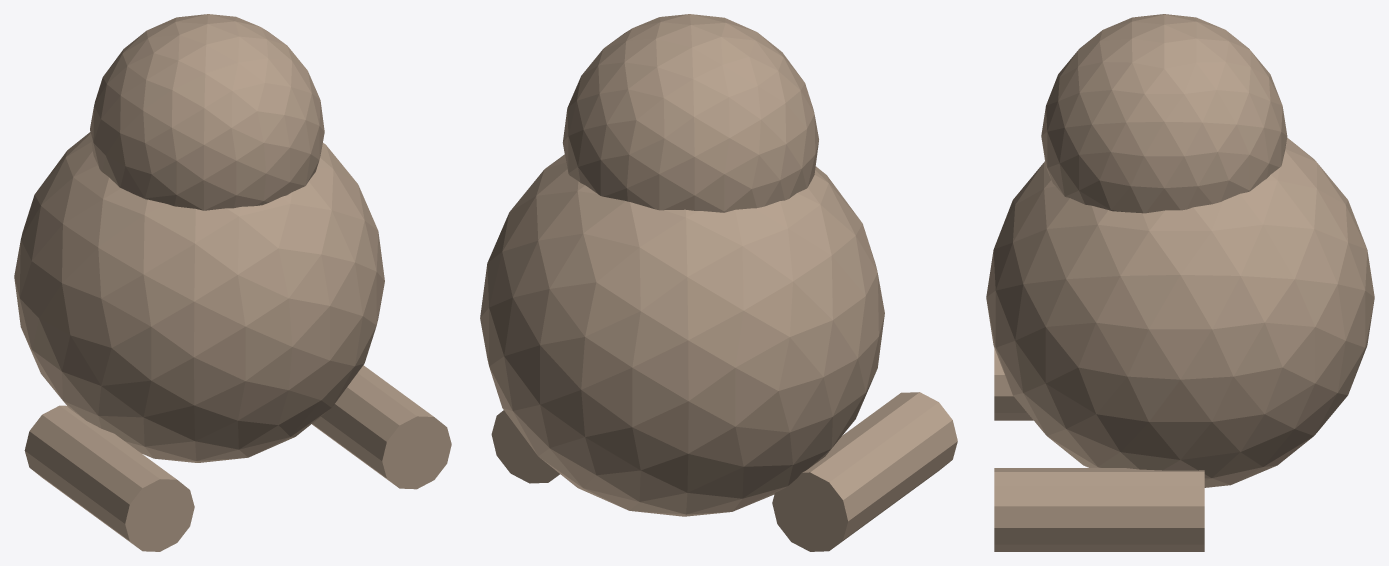
File: luxury_206.glb
The picture shows the model from 3 angles, left to right: view 1: azimuth 30°, elevation 25°; view 2: azimuth 150°, elevation 25°; view 3: azimuth 270°, elevation 25°; orthographic projection. The views are drawn at different scales.
Parts seen in each view (by area): view 1: world; view 2: world; view 3: world.
Boxes of the visible parts, bbox=[...] form: world: bbox=[14, 14, 451, 551]; world: bbox=[480, 14, 957, 551]; world: bbox=[986, 14, 1374, 551].
Bounding box in the file's own units: 1.22 × 1.56 × 1.2.
